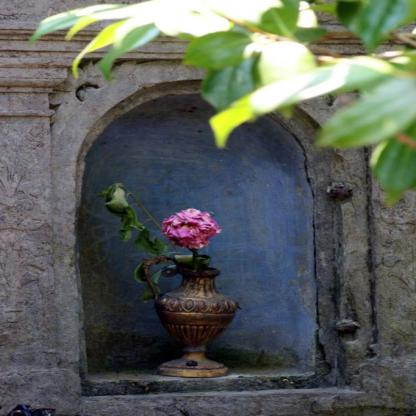vase: (142, 256, 240, 378)
